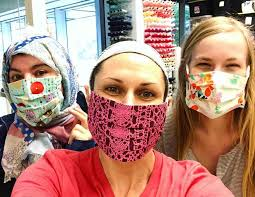with-mask: (90, 42, 171, 165), (184, 19, 255, 126), (4, 40, 77, 128)
